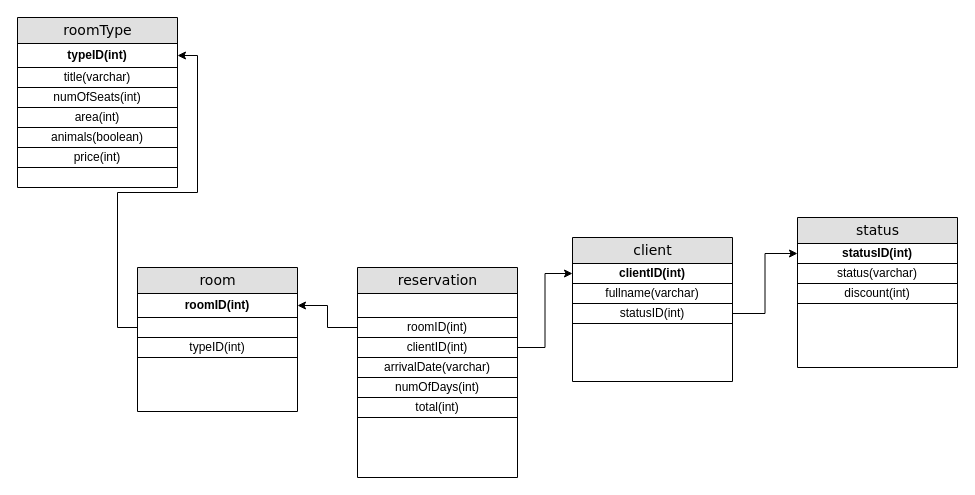
Some shapes in this 975 by 495 pixel diagram are drawn without their labels. The shapes that lost their labels are listed below. From the top down, each one's centre as x and y in pixels, then its label:
(x=437, y=305): reservID(int)
(x=217, y=327): room(int)
